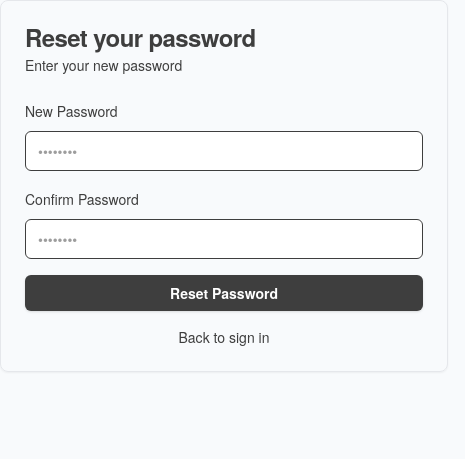
Scenario: ResetPasswordForm Component › Form Submission › should show error message when reset fails
Type "Password123" into the password field labelled "New Password" at (224, 151), box left=25, top=131, right=423, bottom=171
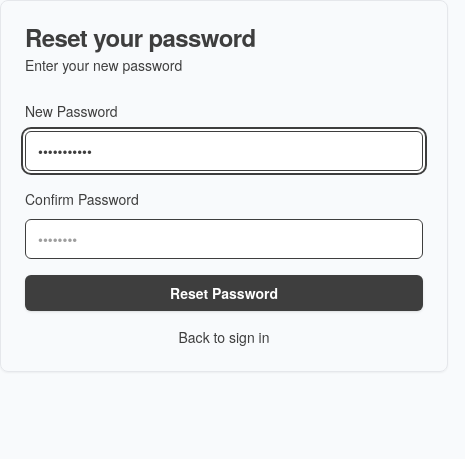
Type "Password123" into the password field labelled "Confirm Password" at (224, 239), box left=25, top=219, right=423, bottom=259
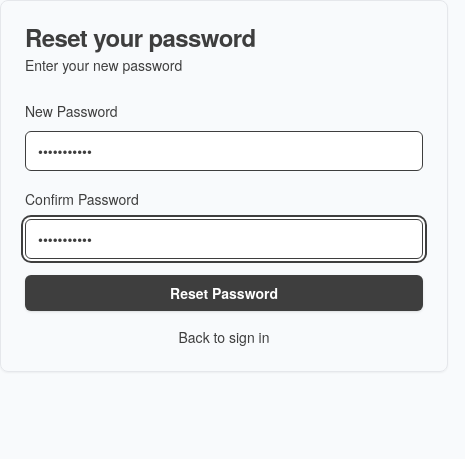
Click the button "Reset Password" at (224, 293), box left=25, top=275, right=423, bottom=311
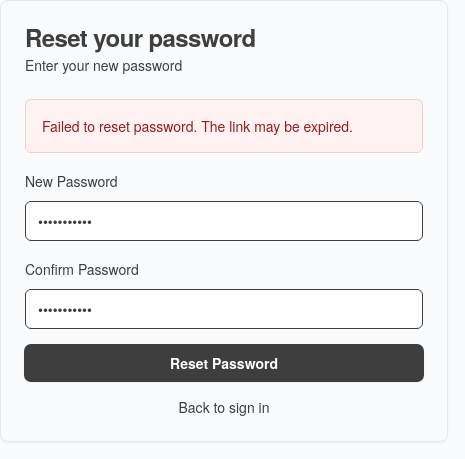
Expected: the button "Reset Password" is enabled, left=25, top=345, right=423, bottom=381
Now the text "Failed to reset password. The link may be expired." is shown, box left=25, top=99, right=423, bottom=153
